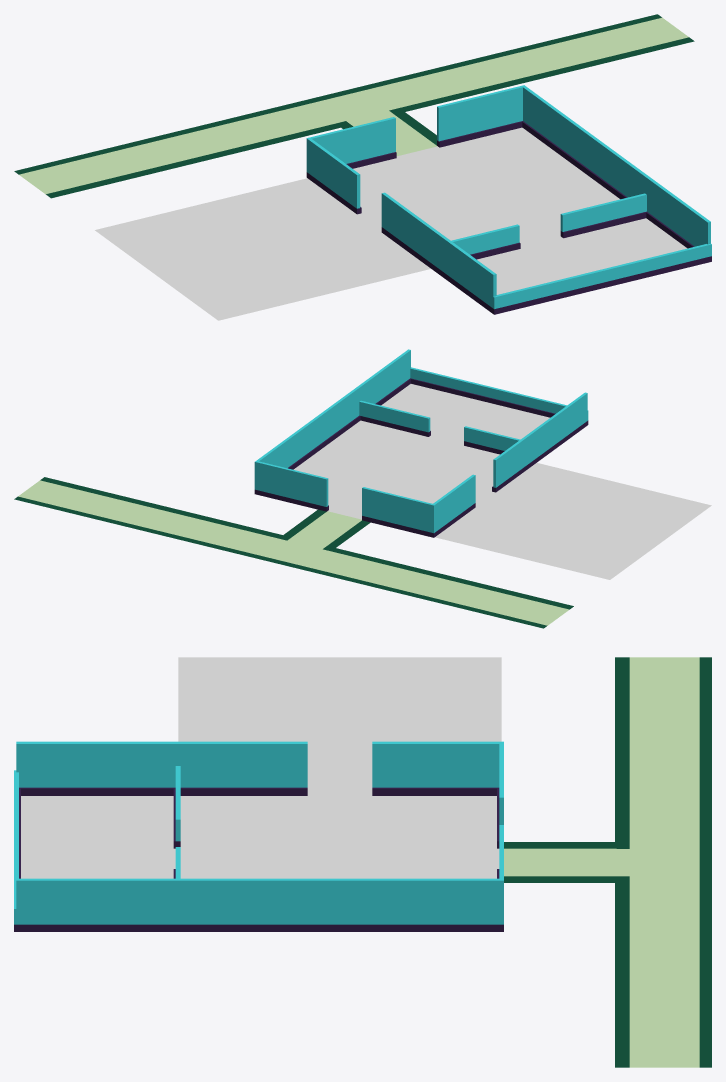
Rendered from Level.fbx.
3 views of the same model, one above another, from view 1: azimuth 30°, elevation 25°; view 2: azimuth 150°, elevation 25°; view 3: azimuth 270°, elevation 25° (orthographic). The views are drawn at different scales.
Parts seen in each view (by area): view 1: EndWall, Plane.002, PlaneExit, Plane.001, Plane; view 2: EndWall, PlaneExit, Plane.002, Plane.001, Plane; view 3: EndWall, PlaneExit, Plane.002, Plane.001, Plane.
Part boxes in pixels (<box>): EndWall: <box>306,85,711,314</box>; Plane.002: <box>95,178,430,320</box>; PlaneExit: <box>14,14,694,198</box>; Plane.001: <box>353,127,619,246</box>; Plane: <box>477,218,687,294</box>; EndWall: <box>254,349,588,537</box>; PlaneExit: <box>14,477,573,628</box>; Plane.002: <box>435,463,711,579</box>; Plane.001: <box>293,420,499,519</box>; Plane: <box>381,384,549,444</box>; EndWall: <box>14,741,503,931</box>; PlaneExit: <box>504,657,711,1067</box>; Plane.002: <box>178,657,501,793</box>; Plane.001: <box>180,794,499,878</box>; Plane: <box>21,796,175,878</box>.
Bounding box in the file's own units: 6000 × 350 × 4315.
